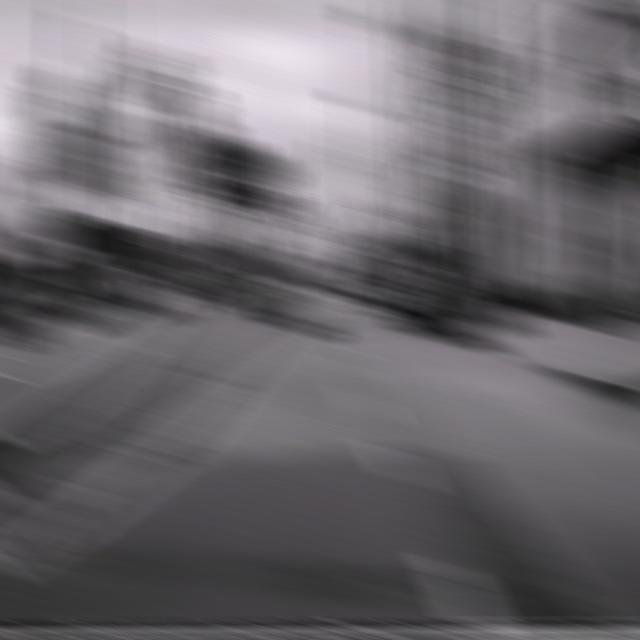speedLimit35: (209, 207, 246, 246)
